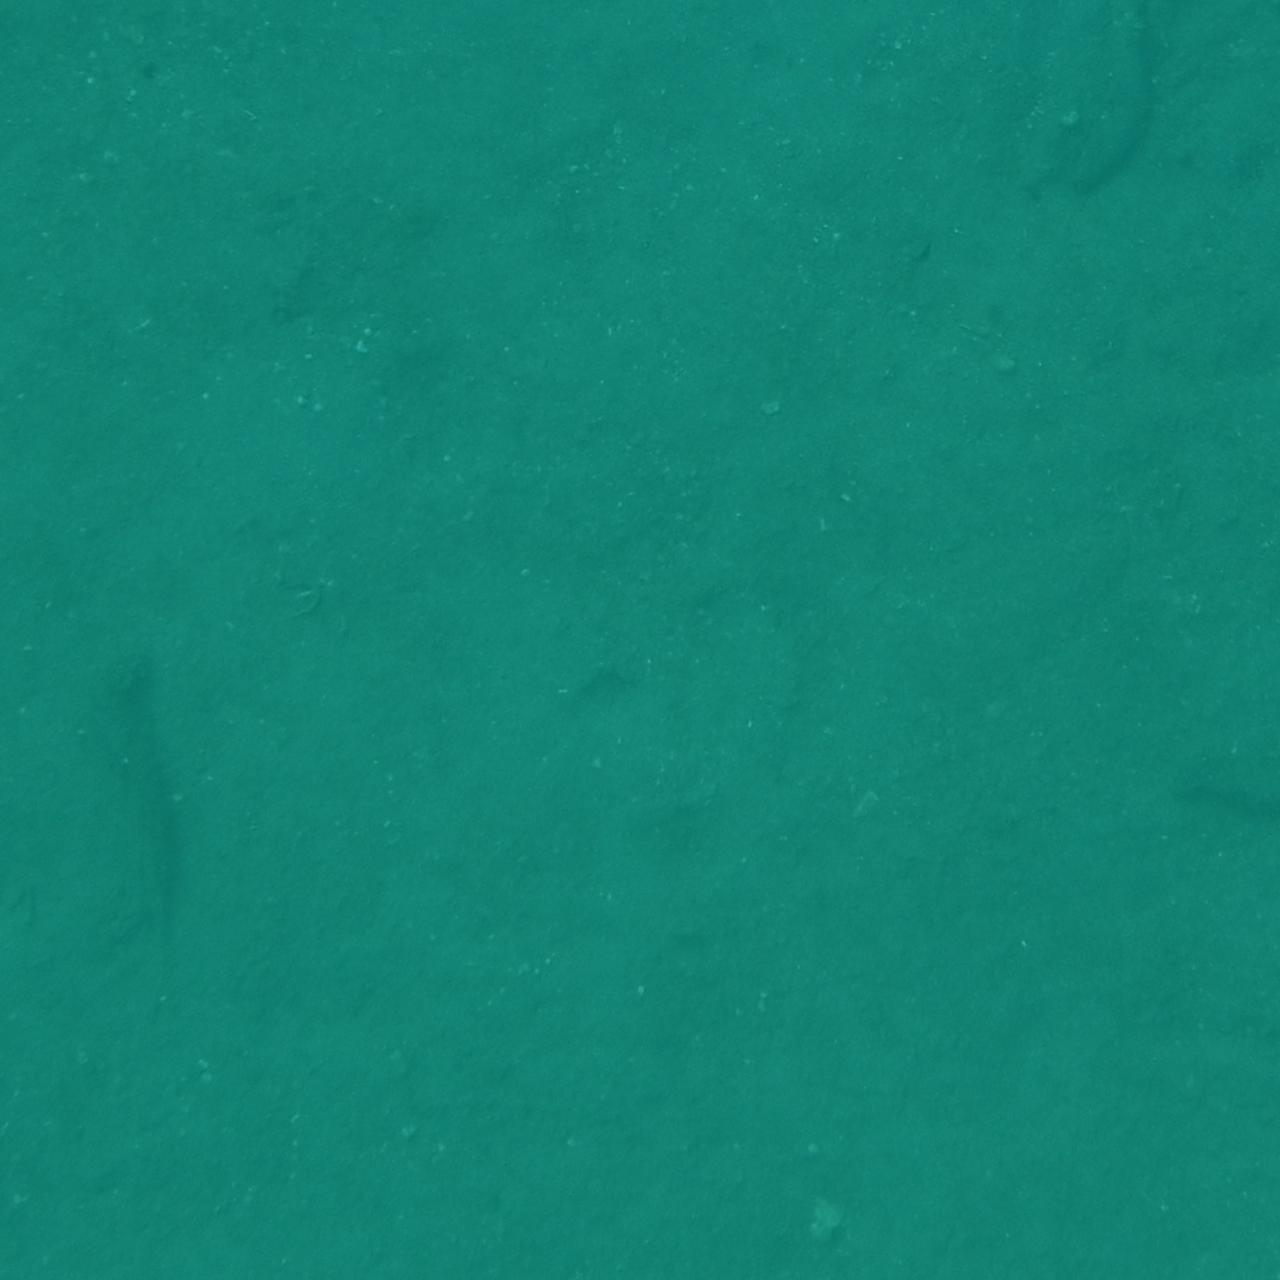Holothuria tubulosa: (64, 621, 186, 990), (1101, 956, 1280, 1145), (1051, 0, 1183, 227), (0, 360, 156, 542), (610, 0, 888, 88), (629, 1216, 973, 1280), (1185, 74, 1280, 306), (0, 69, 82, 329), (1193, 127, 1280, 372), (182, 0, 408, 77), (0, 1095, 113, 1239), (0, 696, 135, 816), (1136, 1171, 1280, 1280), (0, 98, 66, 338), (1160, 701, 1280, 817), (1198, 450, 1280, 607), (0, 0, 95, 130), (1145, 1010, 1280, 1098), (1189, 0, 1280, 124), (0, 0, 73, 138), (1200, 1157, 1280, 1280), (0, 1187, 102, 1280), (433, 1191, 536, 1280), (1226, 0, 1280, 163), (1182, 1197, 1280, 1280), (0, 0, 102, 53), (1131, 1186, 1178, 1280)
